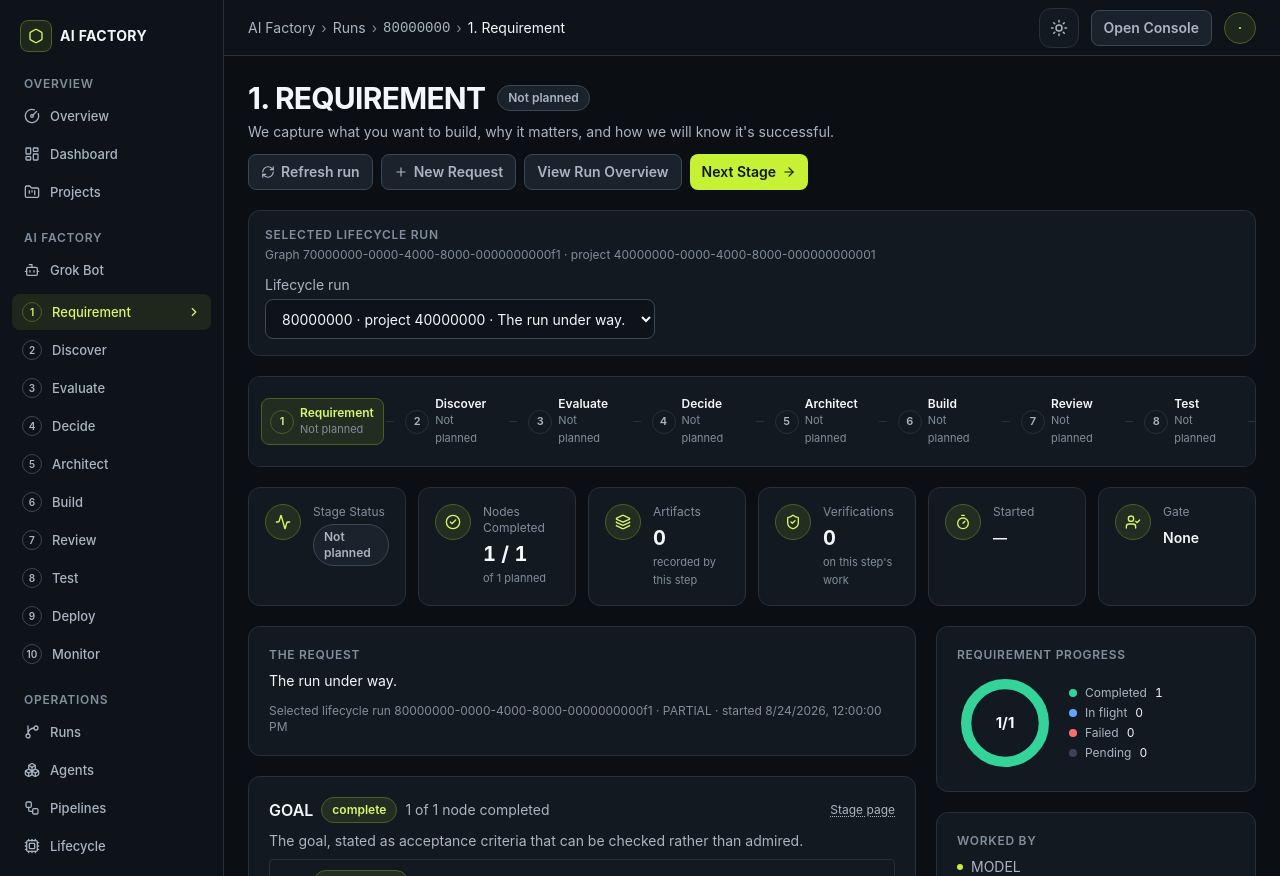
a factory step page › offers New Request on a step that already has a run, and launches from it
The image size is (1280, 876).
Expected: the button "launch" is not shown
Click the button "New Request": coordinates (448, 172) [381, 154, 516, 190]
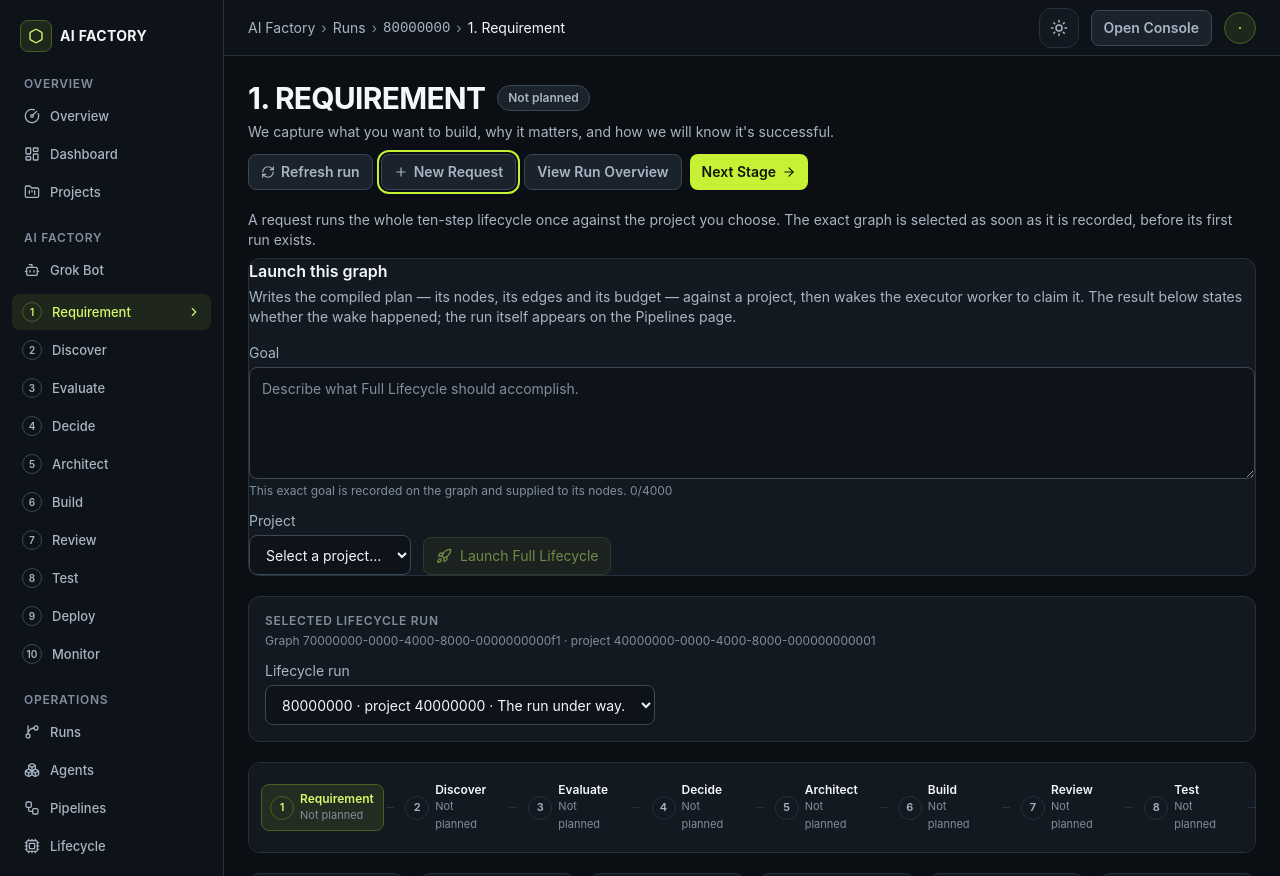
Now the button "Launch Full Lifecycle" is shown, box [423, 537, 612, 575]
Now the text "runs the whole ten-step lifecycle once" is shown, box [248, 211, 1232, 248]
# Closing puts it away again.
Click the button "New Request": coordinates (448, 172) [381, 154, 516, 190]
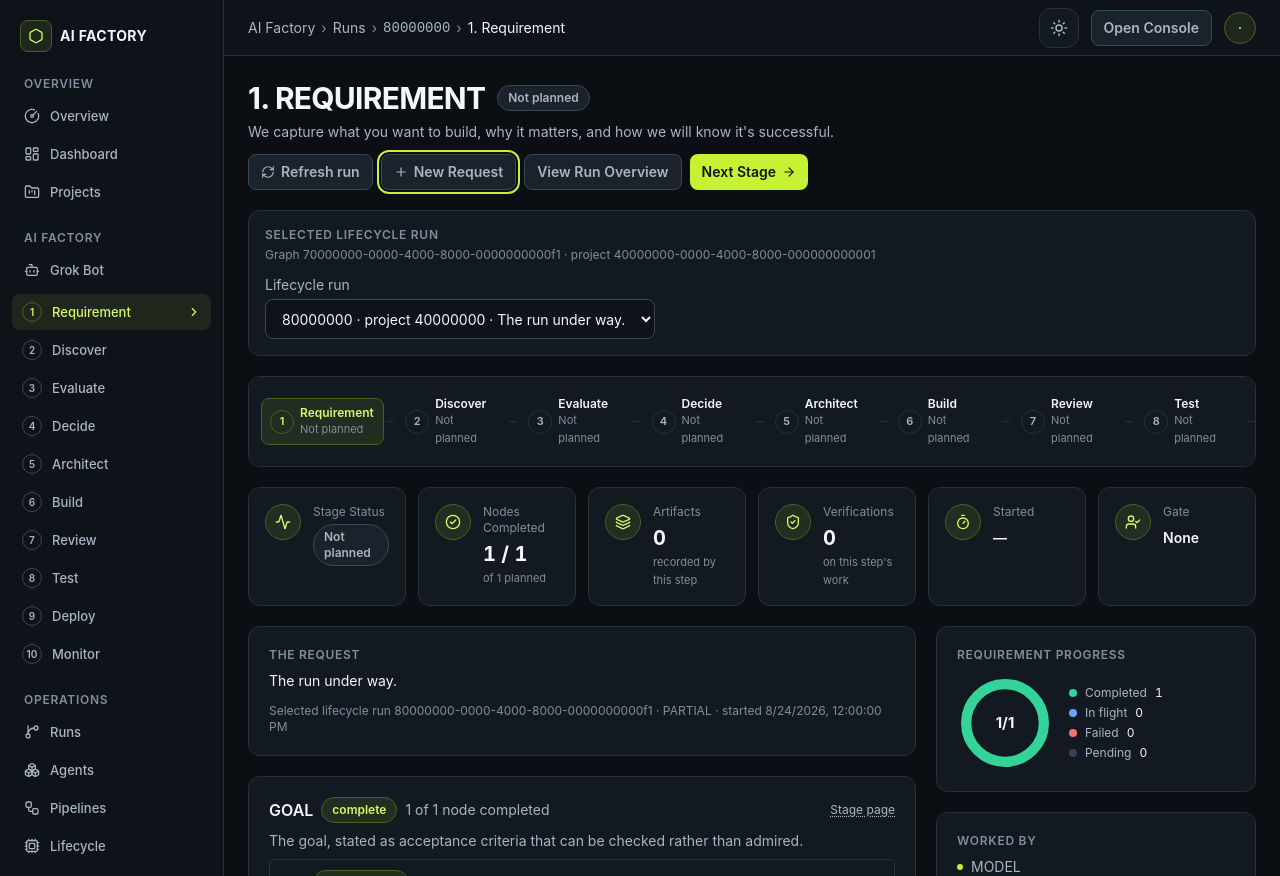
Now the heading "Launch" is gone
